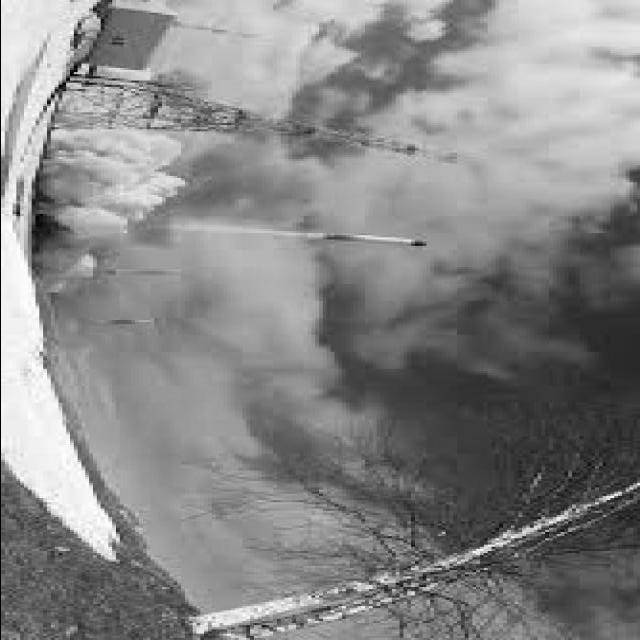Missile: (316, 228, 434, 248)
